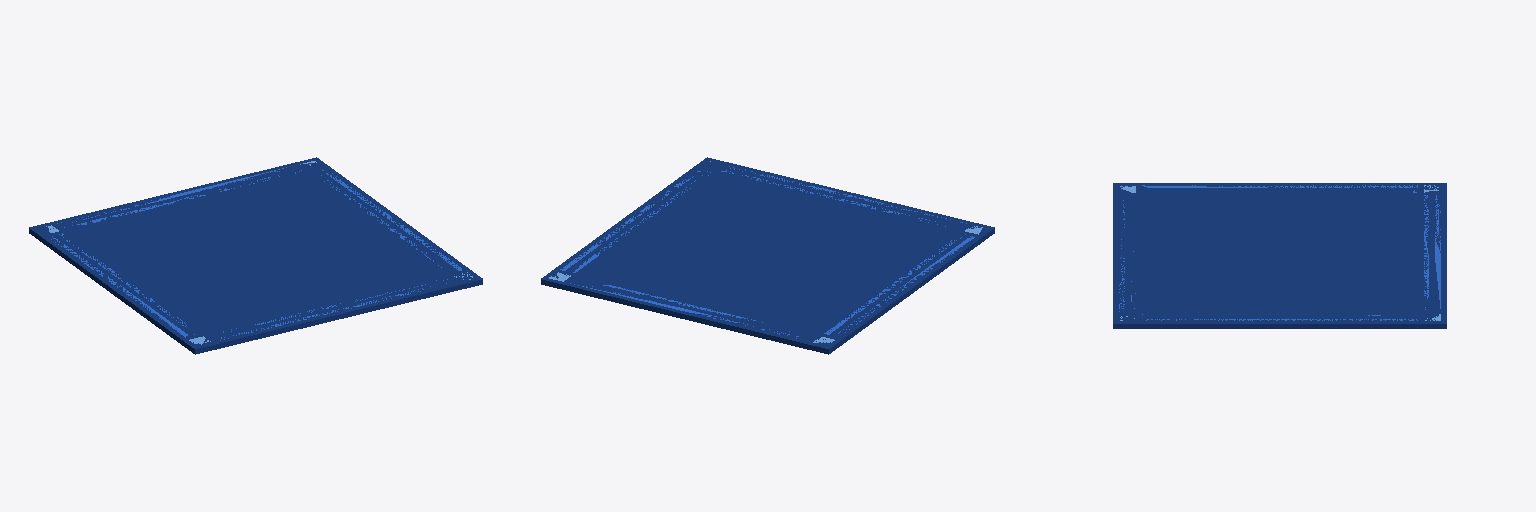
File: PlayerHouse2F.obj
3 renders of one model, left to right at view 1: azimuth 30°, elevation 25°; view 2: azimuth 150°, elevation 25°; view 3: azimuth 270°, elevation 25°, orthographic.
Visible parts, largest first — view 1: Teppich02; view 2: Teppich02; view 3: Teppich02.
Part boxes in pixels (left/top/right/bottom): Teppich02: left=29, top=157, right=482, bottom=354; Teppich02: left=541, top=157, right=994, bottom=354; Teppich02: left=1113, top=183, right=1446, bottom=328.
Size of the model in its own units: 3.62 by 0.0625 by 3.62.